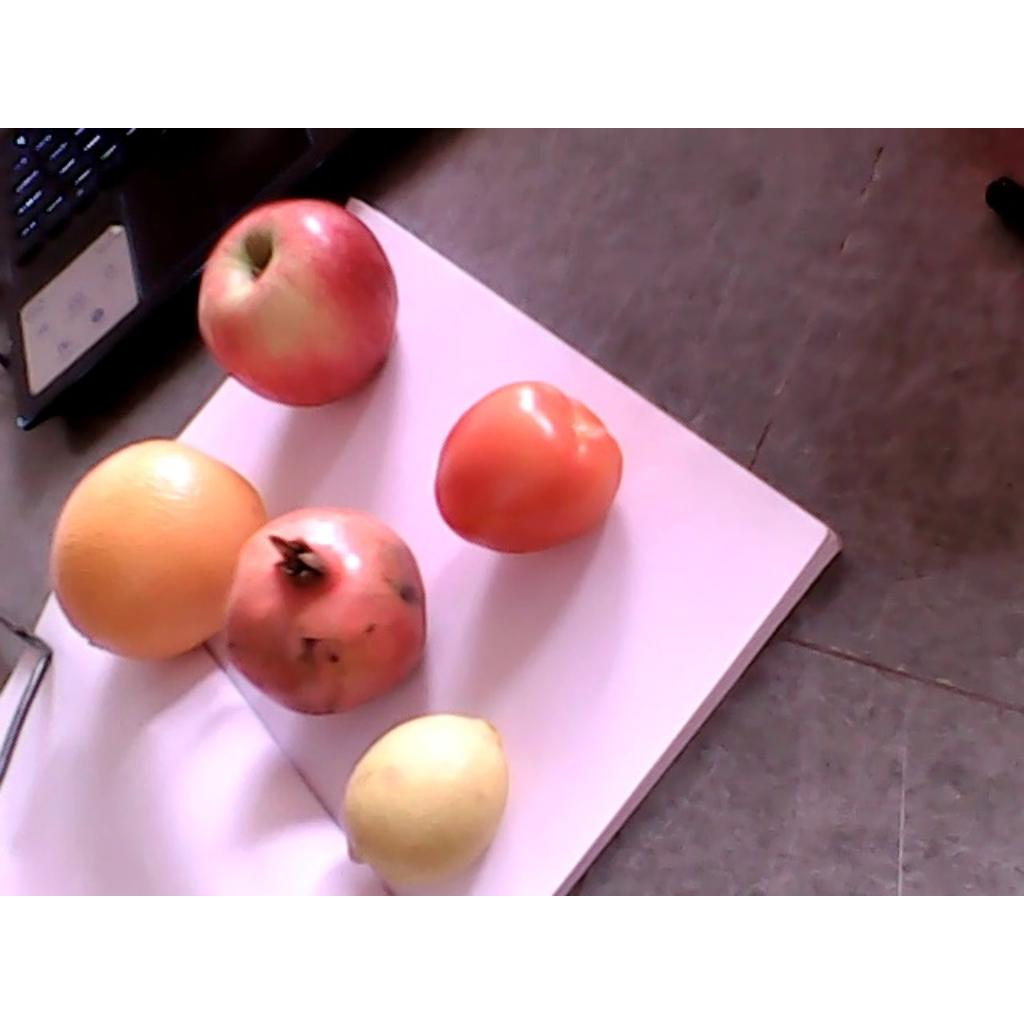apple: (198, 198, 398, 408)
lemon: (340, 713, 509, 881)
orange: (47, 439, 268, 662)
pomegranate: (225, 508, 427, 718)
tomato: (435, 380, 623, 557)
